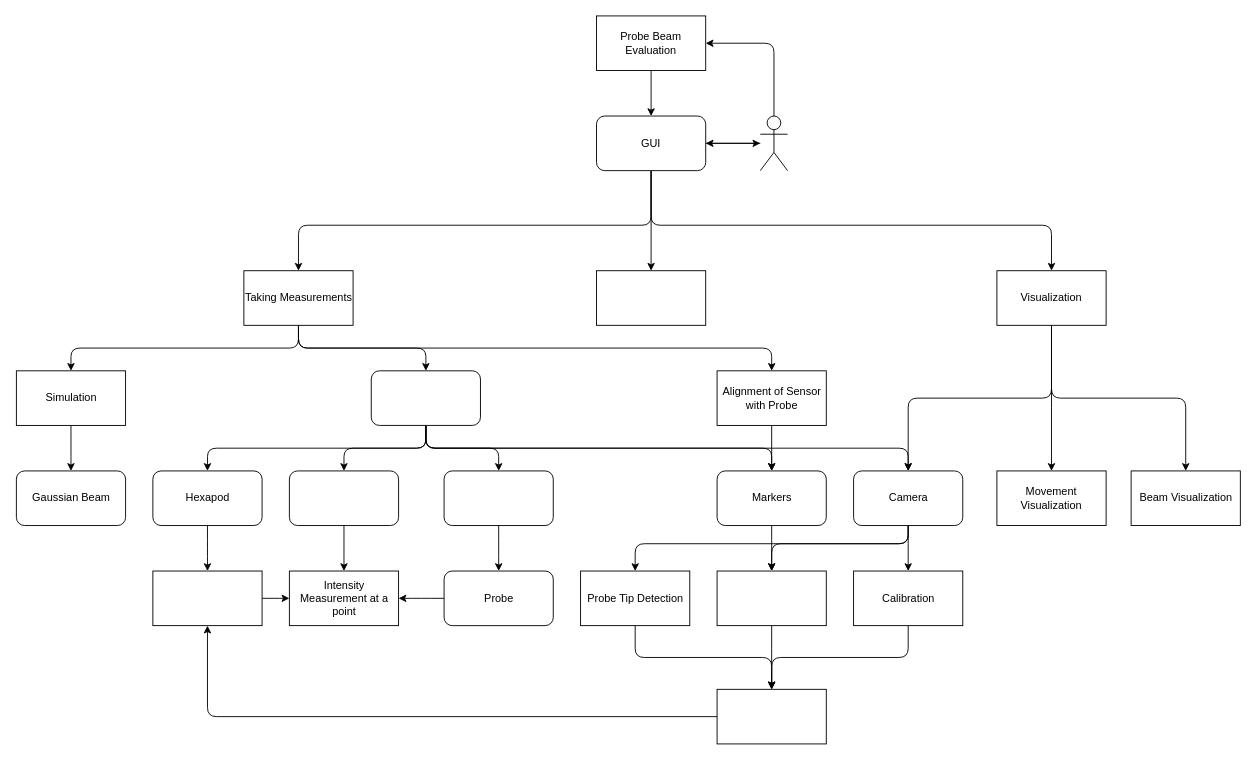
This 1256x760 diagram has some shape labels left out. The centre of each missing label's shape, as x and y in pixels:
Experiment Setup: point (425, 397)
Marker Detection: point (771, 598)
Movement Procedures: point (207, 598)
Position Estimation: point (771, 716)
Probe Fixation: point (498, 498)
Saving/Loading Measurements: point (651, 297)
Sensor: point (343, 498)
User: point (773, 143)
